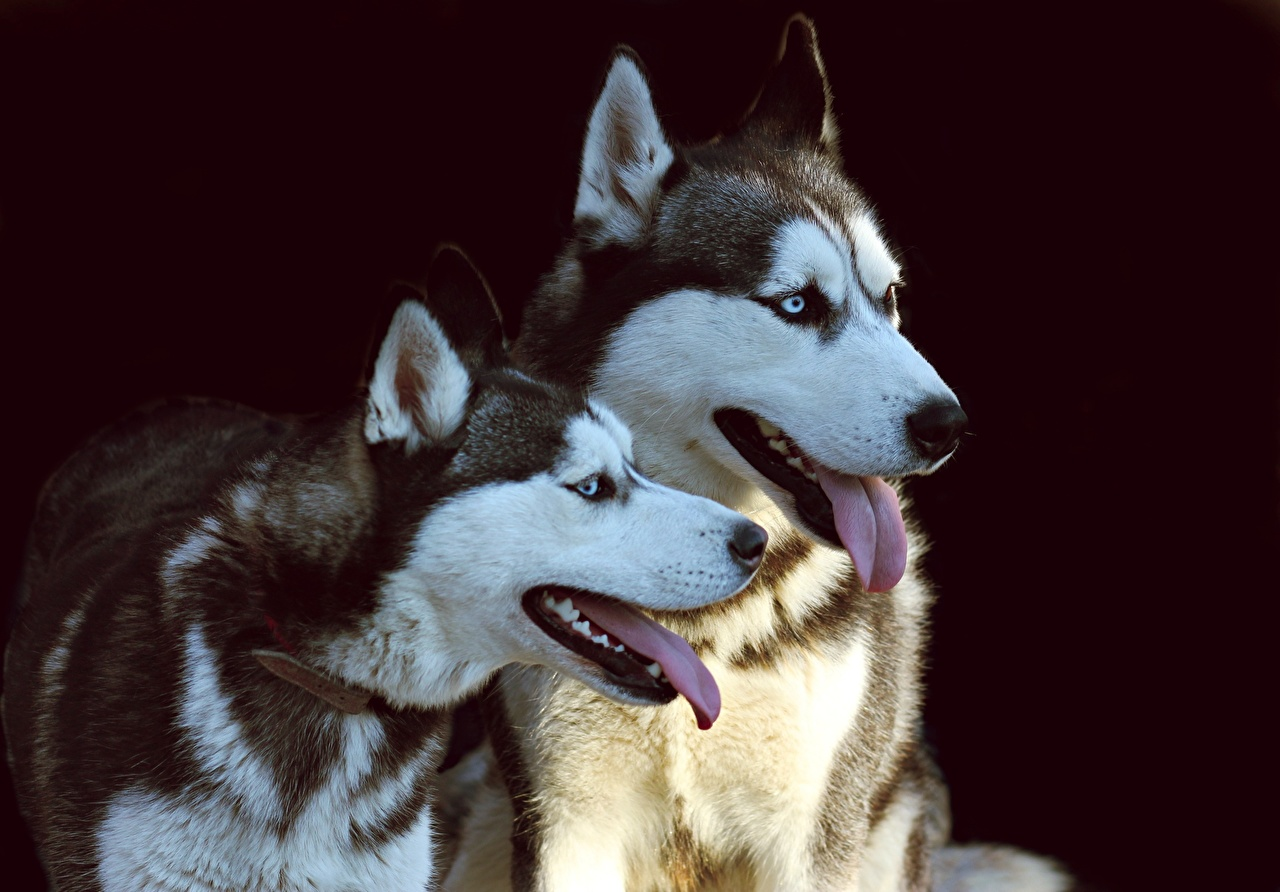husky: (87, 213, 778, 745), (537, 17, 993, 630)
